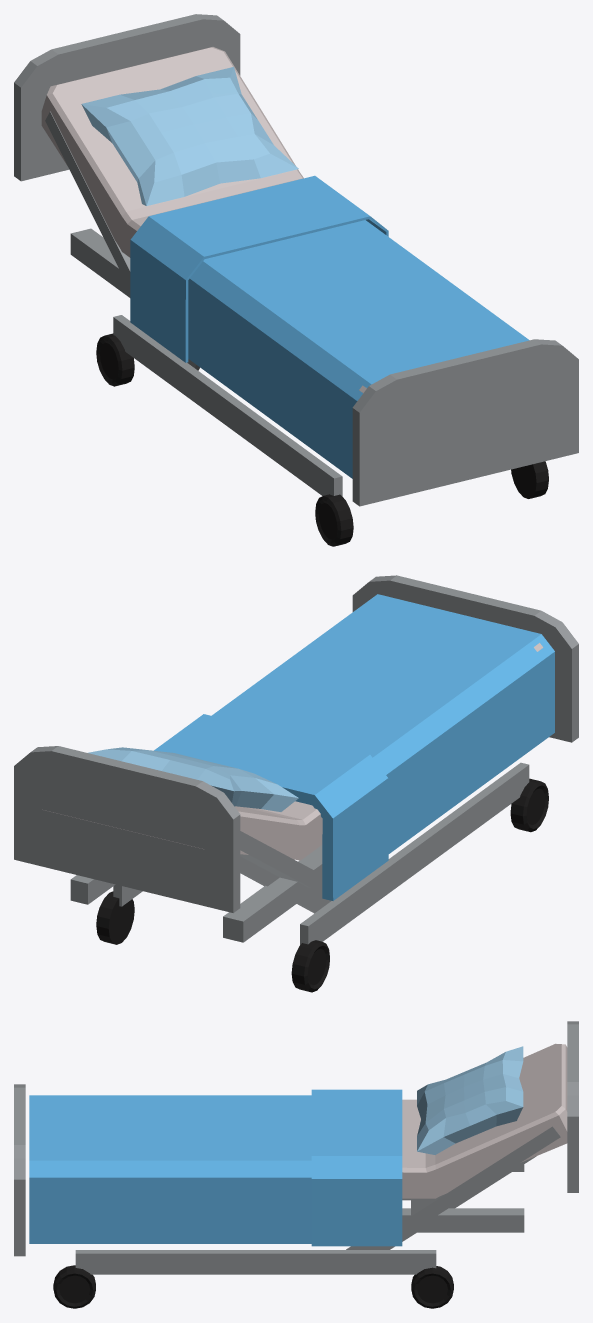
The model's file is bed2.fbx.
3 renders of one model, top to bottom at view 1: azimuth 30°, elevation 25°; view 2: azimuth 150°, elevation 25°; view 3: azimuth 270°, elevation 25°, orthographic. The views are drawn at different scales.
Parts seen in each view (by area): view 1: MSH_Bed2; view 2: MSH_Bed2; view 3: MSH_Bed2.
Part boxes in pixels (x1=…): MSH_Bed2: x1=14, y1=14, x2=578, y2=546; MSH_Bed2: x1=14, y1=575, x2=578, y2=992; MSH_Bed2: x1=14, y1=1021, x2=578, y2=1308.
Size of the model in its own units: 7.19 by 8.21 by 19.63.
